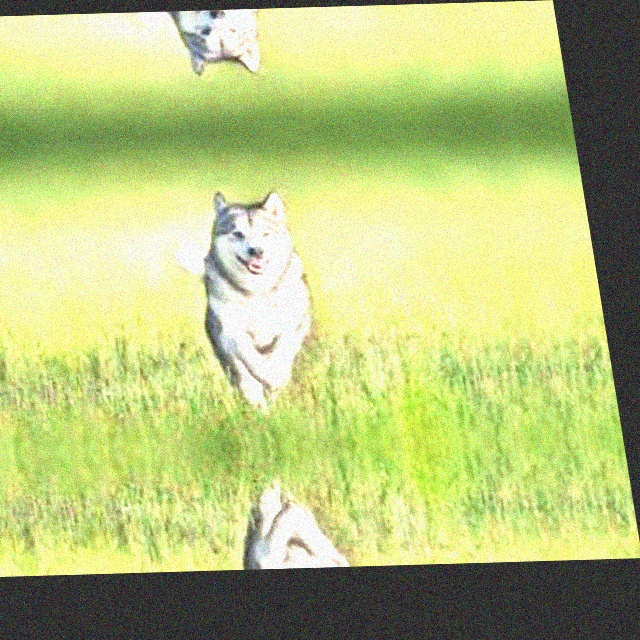dog: (153, 168, 338, 416), (202, 477, 362, 571), (127, 8, 286, 96)
